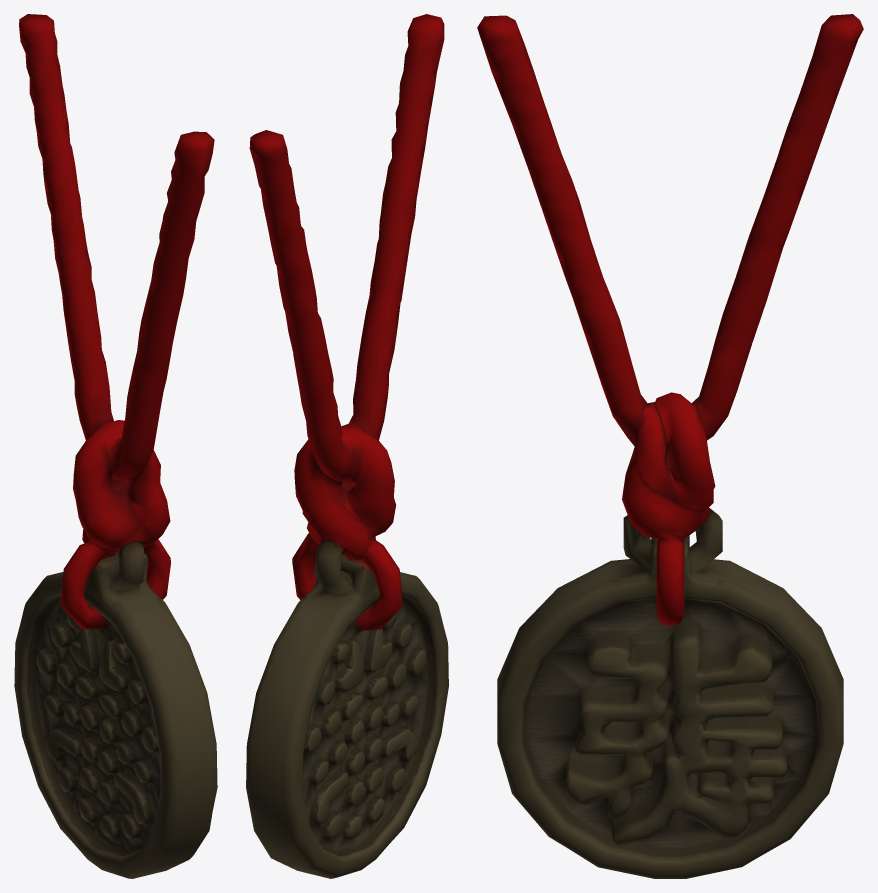
File: charm.glb
The picture shows the model from 3 angles, left to right: view 1: azimuth 30°, elevation 25°; view 2: azimuth 150°, elevation 25°; view 3: azimuth 270°, elevation 25°; orthographic projection. The views are drawn at different scales.
Parts seen in each view (by area): view 1: base_model_path; view 2: base_model_path; view 3: base_model_path.
Part boxes in pixels (x1,y1,x2,y2): base_model_path: (14, 14, 217, 878); base_model_path: (246, 14, 448, 878); base_model_path: (477, 14, 863, 878).
Size of the model in its own units: 0.1468 by 1 by 0.413.
1 material, 1 textured.
